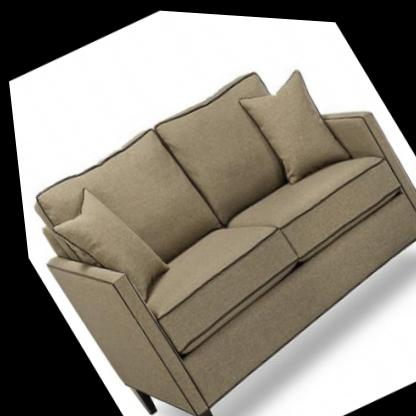Sofa: (1, 6, 416, 416)
